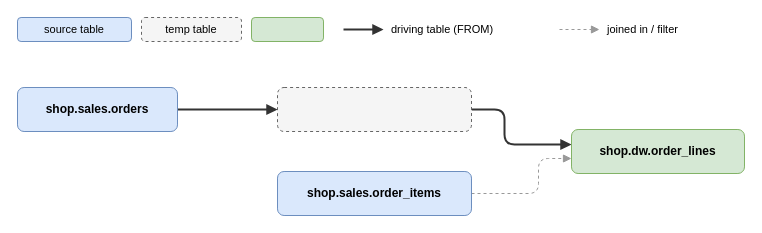
Image size: 762x233. Some labels were removed from this diagram. The centre of each missing label's shape, as x and y in pixels:
"_SESSION.todays_orders" goes at point 374,109.
"target" goes at point 287,29.
